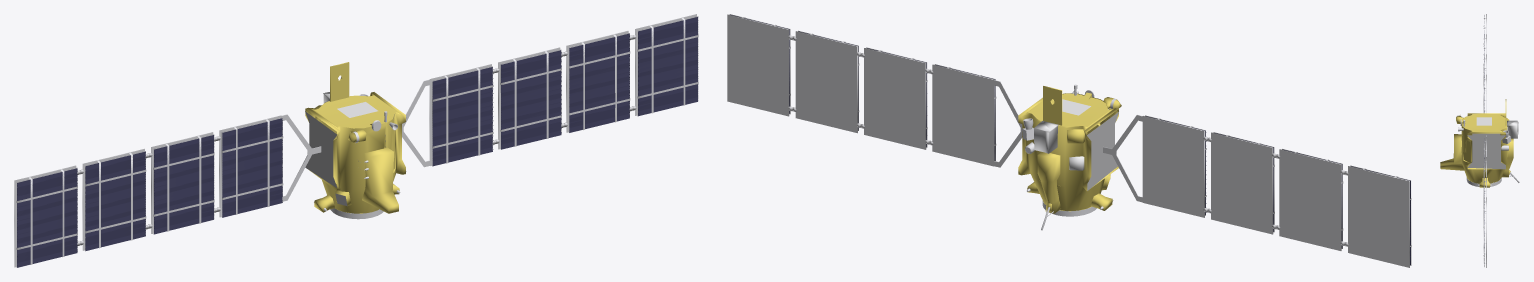
The model's file is DeepSpace1.glb.
3 views of the same model, side by side, from view 1: azimuth 30°, elevation 25°; view 2: azimuth 150°, elevation 25°; view 3: azimuth 270°, elevation 25° (orthographic). The views are drawn at different scales.
Visible parts, largest first — view 1: shiny_panel, tex_01, foil_gold, black_krinkle, foil_silver; view 2: tex_01, foil_gold, black_krinkle, foil_silver, shiny_panel; view 3: foil_gold, black_krinkle, tex_01, foil_silver, shiny_panel.
Boxes of the visible parts, x1,y1,x2,y2 form: shiny_panel: [17, 17, 698, 267]; tex_01: [14, 14, 698, 267]; foil_gold: [305, 62, 405, 213]; black_krinkle: [305, 111, 406, 187]; foil_silver: [323, 92, 377, 178]; tex_01: [727, 14, 1411, 267]; foil_gold: [1018, 86, 1121, 213]; black_krinkle: [1018, 112, 1118, 190]; foil_silver: [1034, 99, 1090, 170]; shiny_panel: [730, 14, 1410, 265]; foil_gold: [1440, 99, 1513, 187]; black_krinkle: [1467, 133, 1505, 169]; tex_01: [1456, 14, 1519, 267]; foil_silver: [1476, 117, 1518, 138]; shiny_panel: [1484, 34, 1484, 248].
Bounding box in the file's own units: 11.8 × 2.22 × 1.96.
